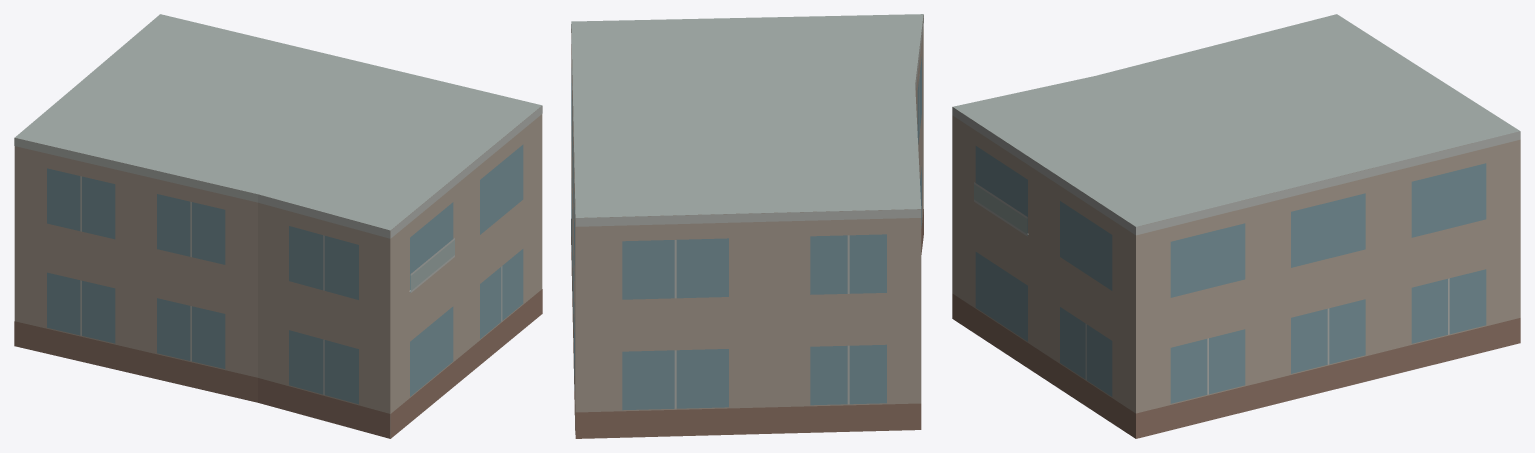
The model's file is survey-upis-33021077.glb.
3 views of the same model, side by side, from view 1: azimuth 30°, elevation 25°; view 2: azimuth 150°, elevation 25°; view 3: azimuth 270°, elevation 25° (orthographic). The views are drawn at different scales.
Visible parts, largest first — view 1: survey-upis-33021077.tmp; view 2: survey-upis-33021077.tmp; view 3: survey-upis-33021077.tmp.
Part boxes in pixels (x1,y1,x2,y2): survey-upis-33021077.tmp: (14,14,542,438); survey-upis-33021077.tmp: (571,14,923,438); survey-upis-33021077.tmp: (952,14,1520,438).
Size of the model in its own units: 13.15 by 6.1 by 14.83.
